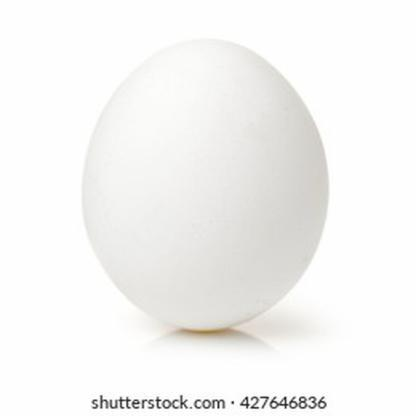egg: (77, 35, 335, 334)
